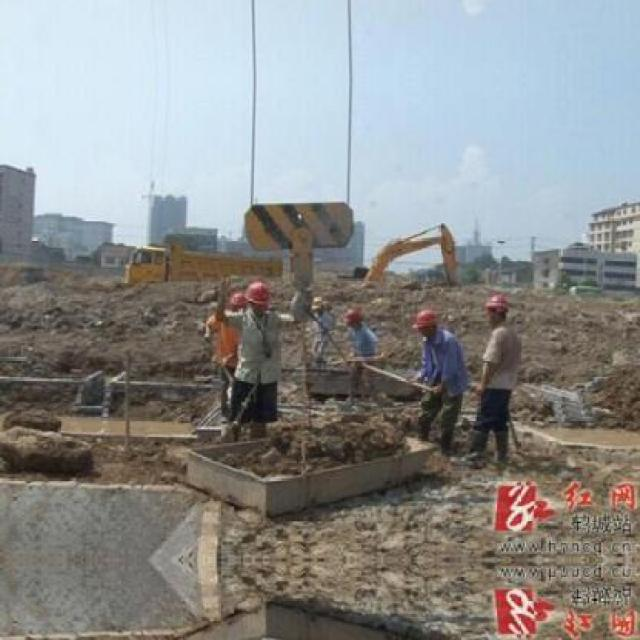helmet: (482, 289, 512, 326), (405, 308, 441, 338), (241, 278, 270, 313), (340, 303, 362, 328), (226, 291, 248, 312), (307, 292, 324, 314)
